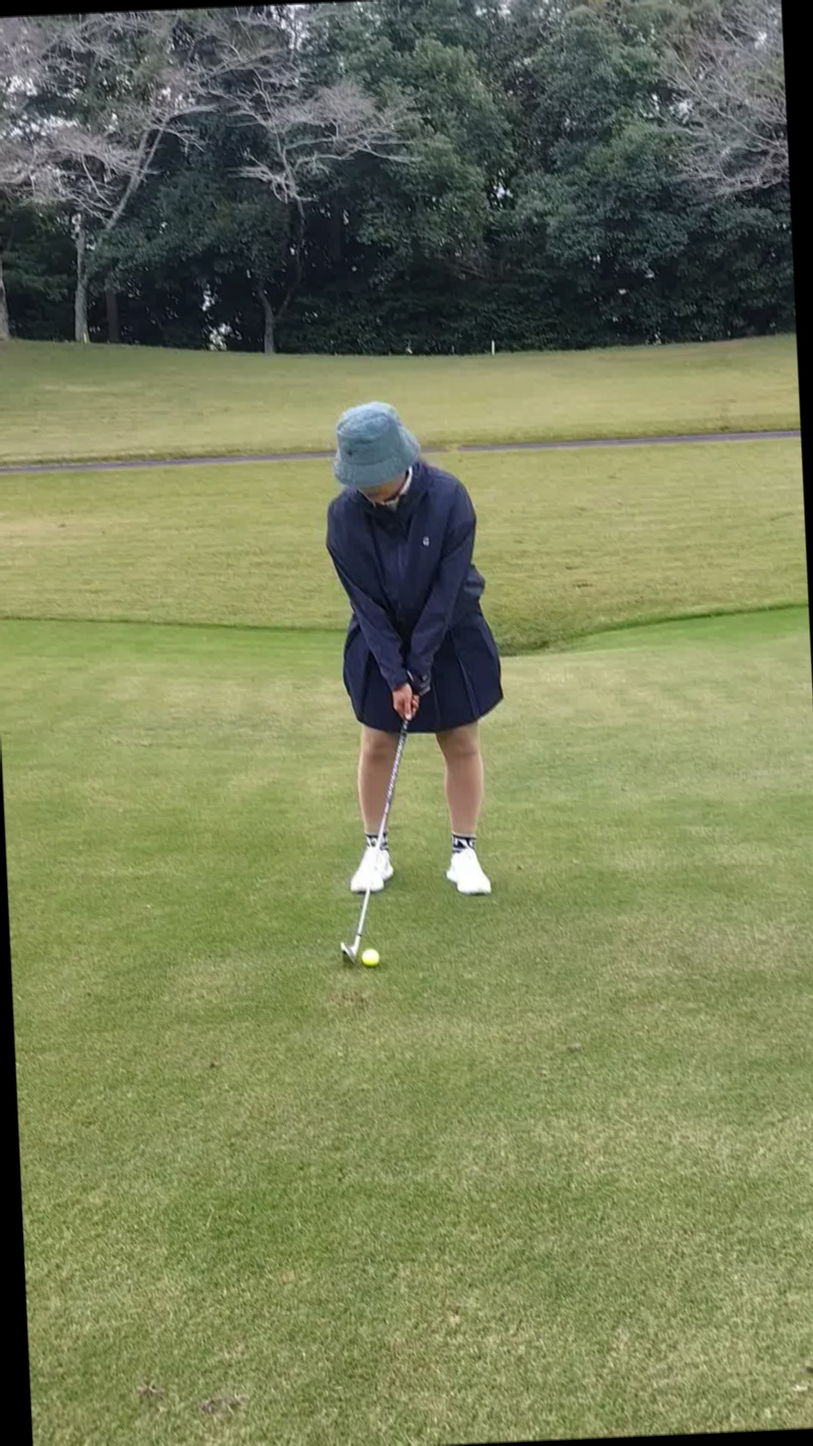clubhead: (287, 901, 422, 1008)
